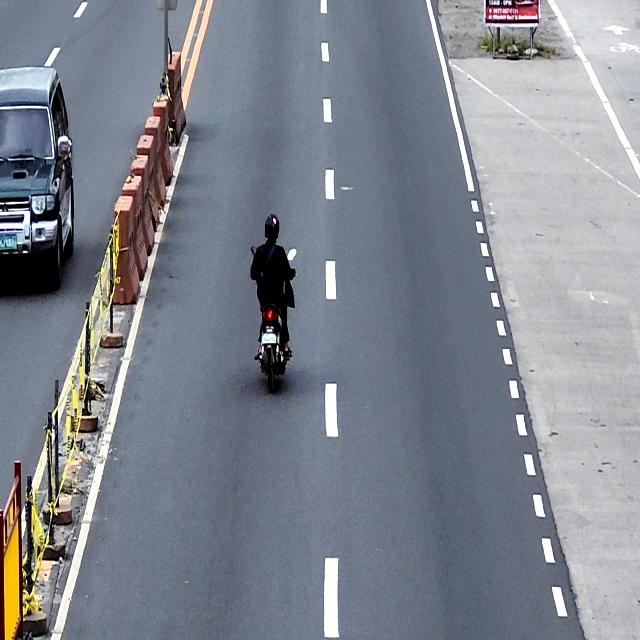Car: (0, 65, 75, 292)
License-Plate: (0, 233, 18, 252), (261, 333, 277, 346)
Motorcycle: (251, 244, 297, 388)
